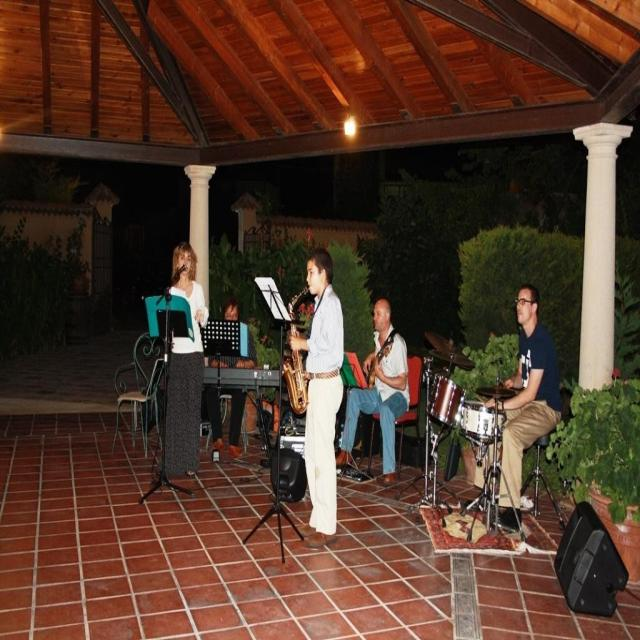drums: (420, 320, 524, 544)
saxophone: (278, 284, 314, 418)
